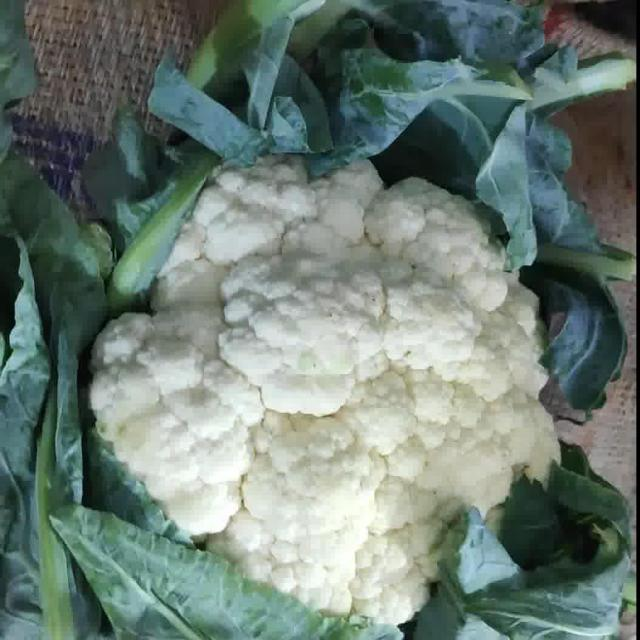Cauliflower: (81, 156, 560, 630)
